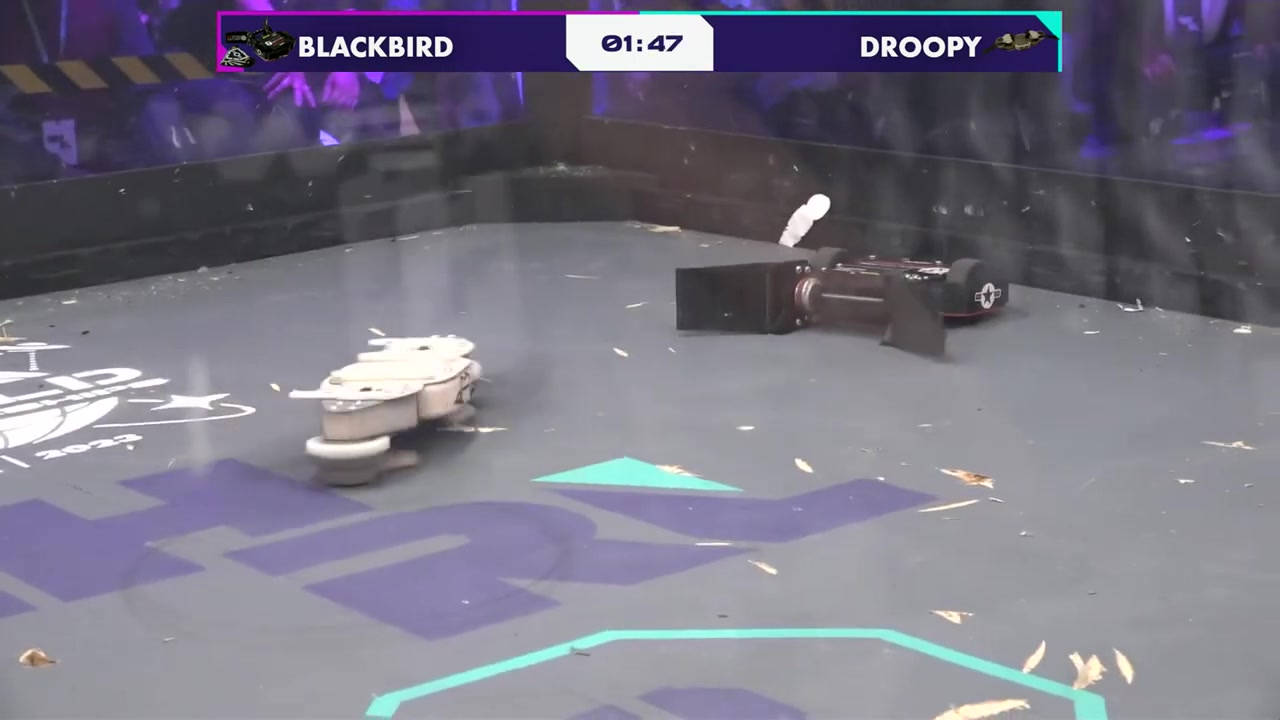combatbot: (678, 248, 1011, 334), (322, 335, 480, 443)
